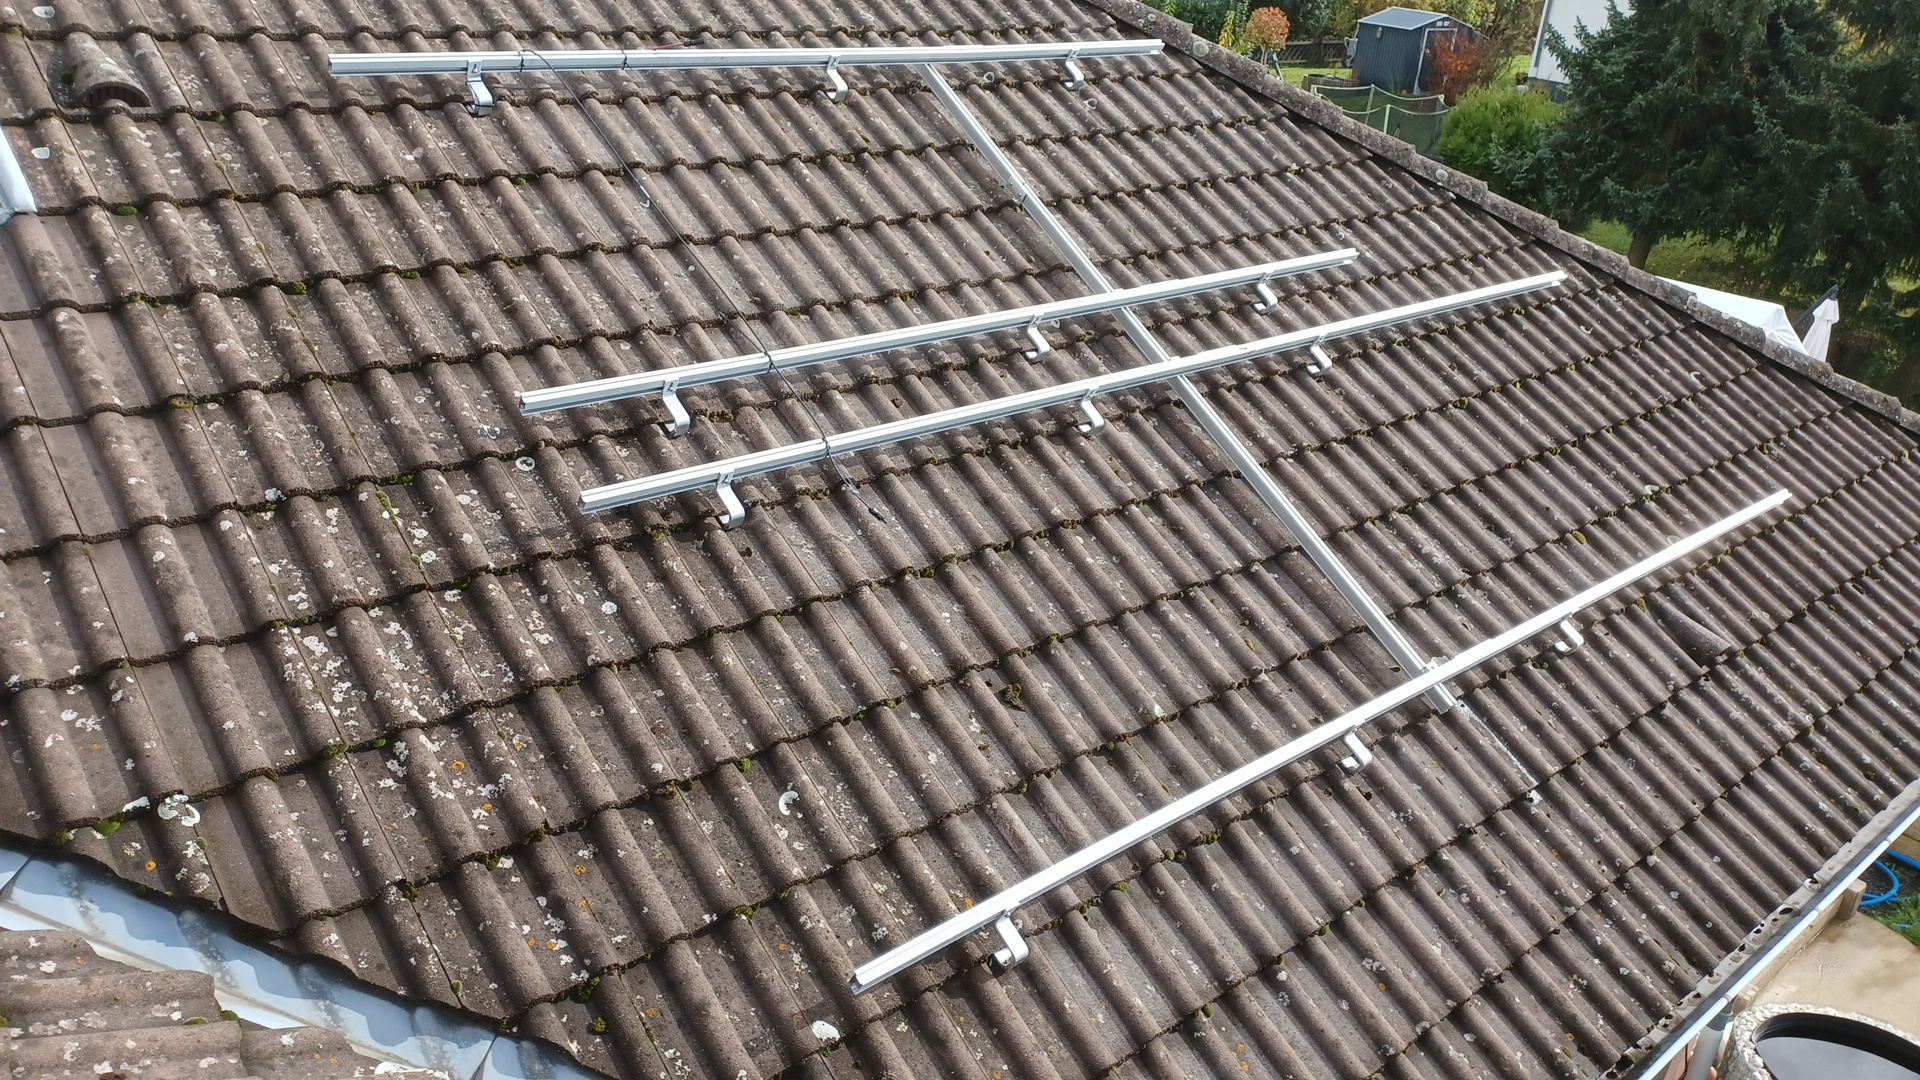hook: (994, 902, 1029, 969), (715, 469, 745, 530), (1341, 720, 1373, 775), (662, 377, 690, 438), (465, 58, 493, 116), (1553, 608, 1584, 655), (1077, 386, 1104, 436), (1025, 313, 1050, 363), (1305, 334, 1332, 378), (825, 54, 847, 102), (1253, 272, 1276, 314), (1063, 47, 1084, 90)
